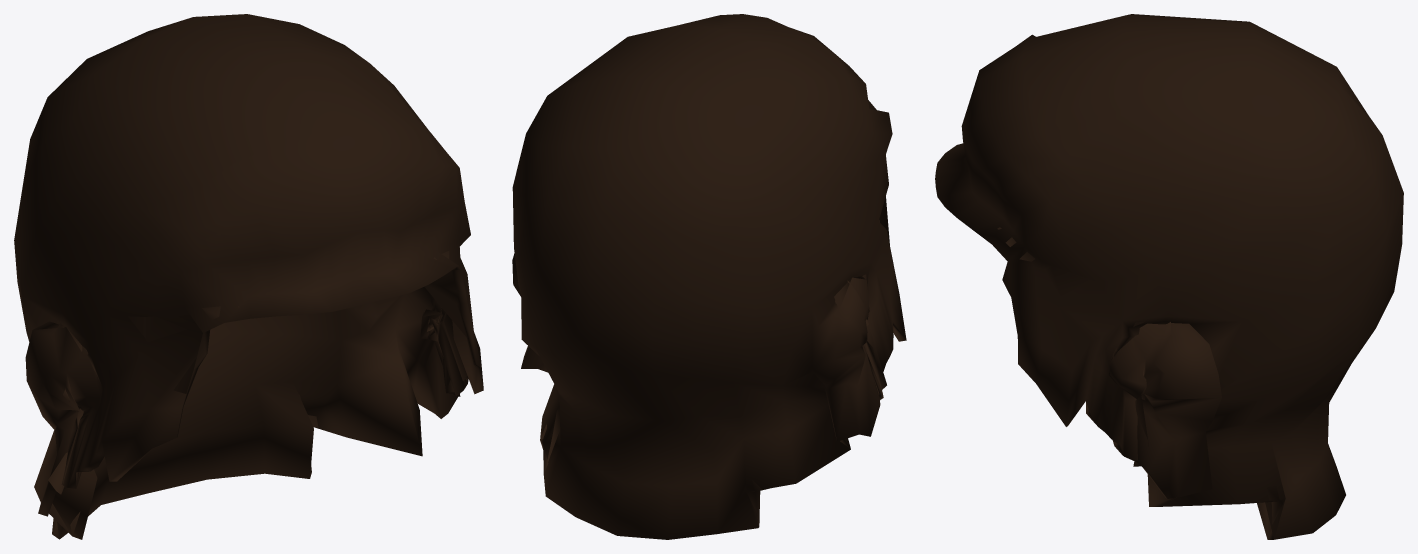
File: hair_unkempt.glb
The picture shows the model from 3 angles, left to right: view 1: azimuth 30°, elevation 25°; view 2: azimuth 150°, elevation 25°; view 3: azimuth 270°, elevation 25°; orthographic projection. The views are drawn at different scales.
Parts seen in each view (by area): view 1: hair_unkempt; view 2: hair_unkempt; view 3: hair_unkempt.
Part boxes in pixels (x1,y1,x2,y2): hair_unkempt: (14, 14, 483, 539); hair_unkempt: (512, 14, 906, 539); hair_unkempt: (935, 14, 1403, 539).
Bounding box in the file's own units: 0.2343 × 0.2792 × 0.2545.
